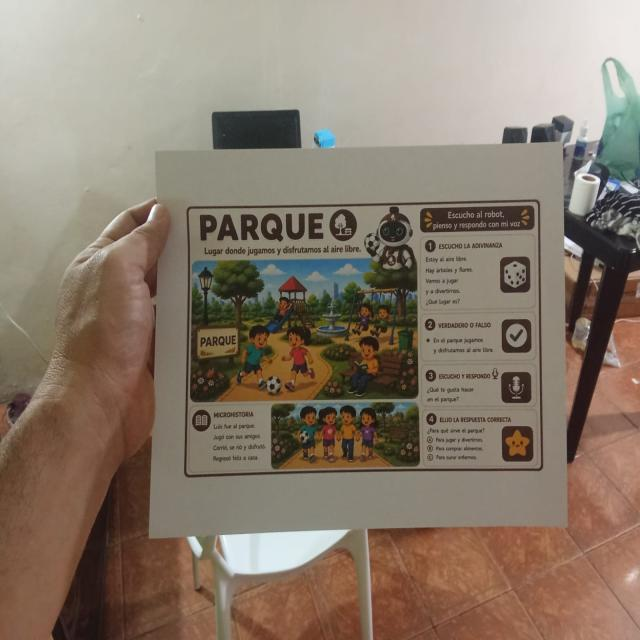parque: (180, 193, 547, 484)
